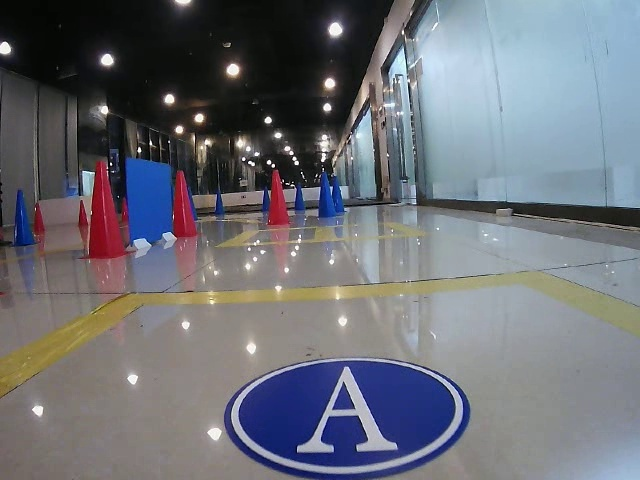A: (224, 356, 468, 476)
